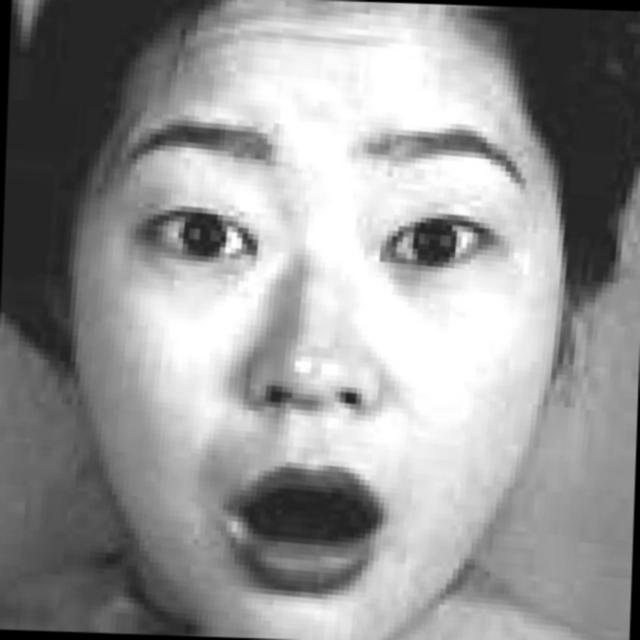surprise: (77, 10, 580, 640)
